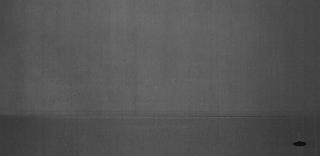punching hole: (292, 140, 308, 148)
welding line: (2, 108, 318, 125)
